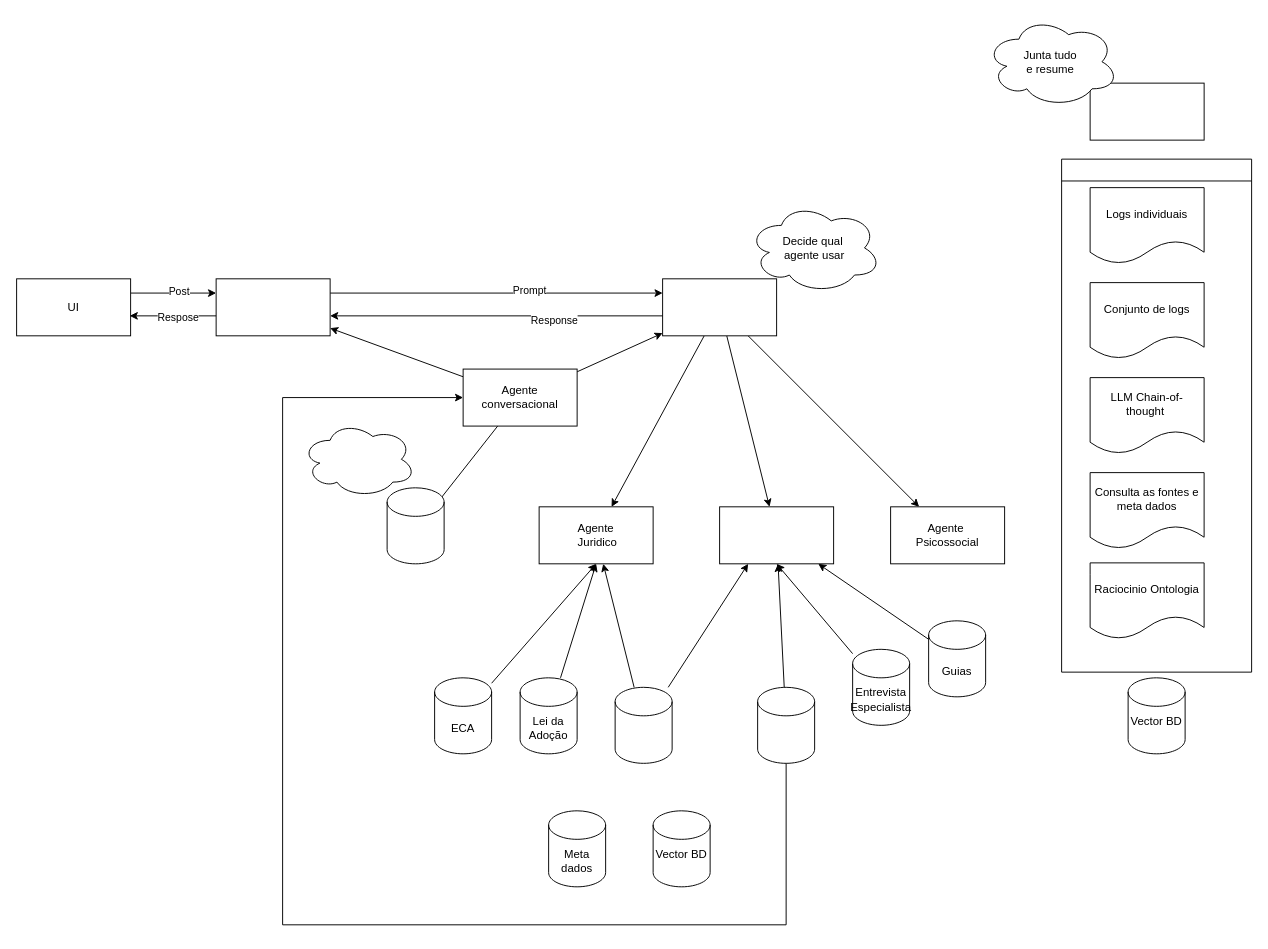
Image size: 1268x949. Some labels were removed from this diagram. The shapes that lost their labels are listed below. From the top down, each one's centre as x and y in pixels, then its label:
At (1146,111): "Agente XAI".
At (272,307): "API".
At (719,307): "Agente Supervisor".
At (1156,415): "Vertical Container".
At (358,458): "Perguntas maiis simples".
At (415,525): "Perguntas e respostas".
At (776,535): "Agente Processo de Adoção".
At (643,724): "Ontologia Adoção".
At (786,724): "Principais sites".
